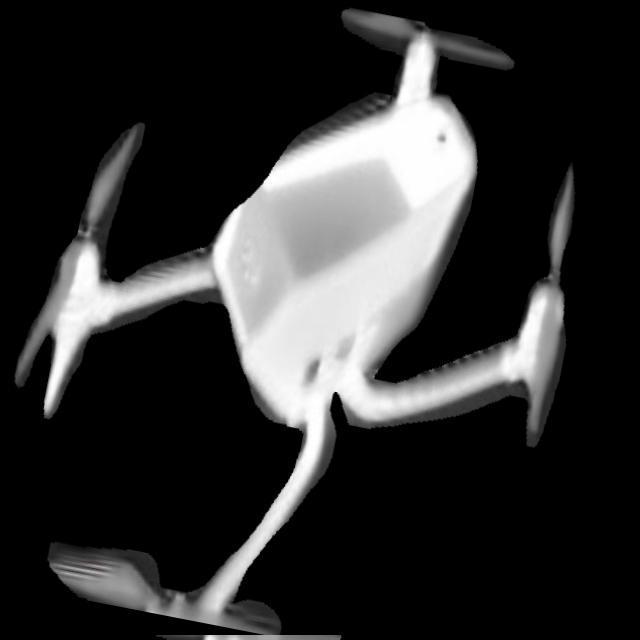drone: (9, 0, 594, 635)
